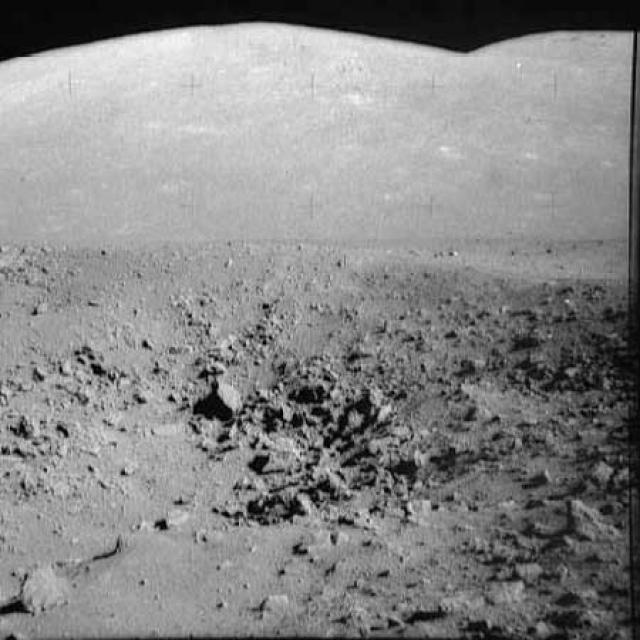crater: (0, 243, 639, 639)
rock: (188, 351, 247, 421), (562, 493, 621, 547), (17, 558, 73, 612), (260, 428, 304, 473), (479, 576, 533, 604), (152, 498, 193, 533), (250, 586, 292, 619), (15, 401, 43, 443)
